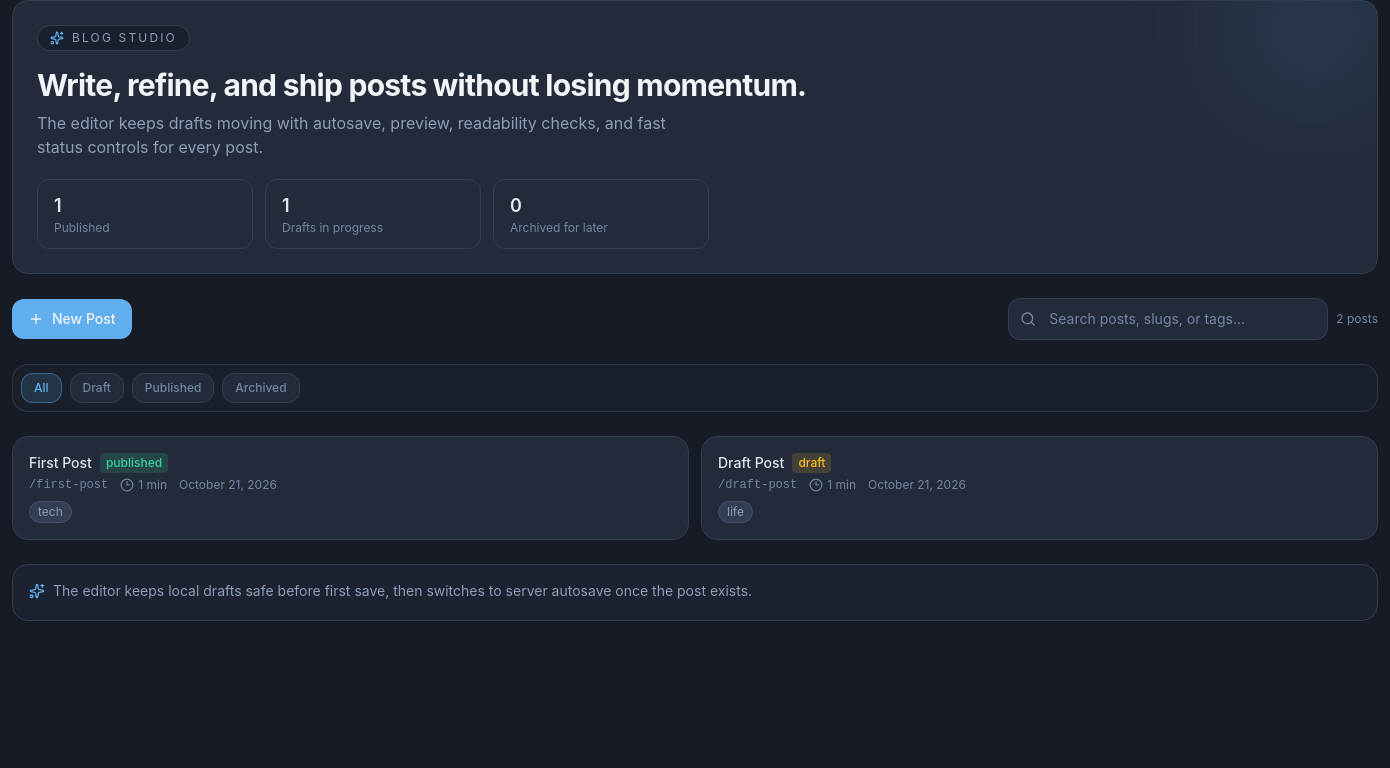
Test: BlogAdminView › filters posts by search text
Expected: the text "First Post" is shown, [29,453,92,473]
Type "First" into the field with placeholder "Search posts, slugs, or tags..." at (1168, 319), box [1008,298,1328,340]
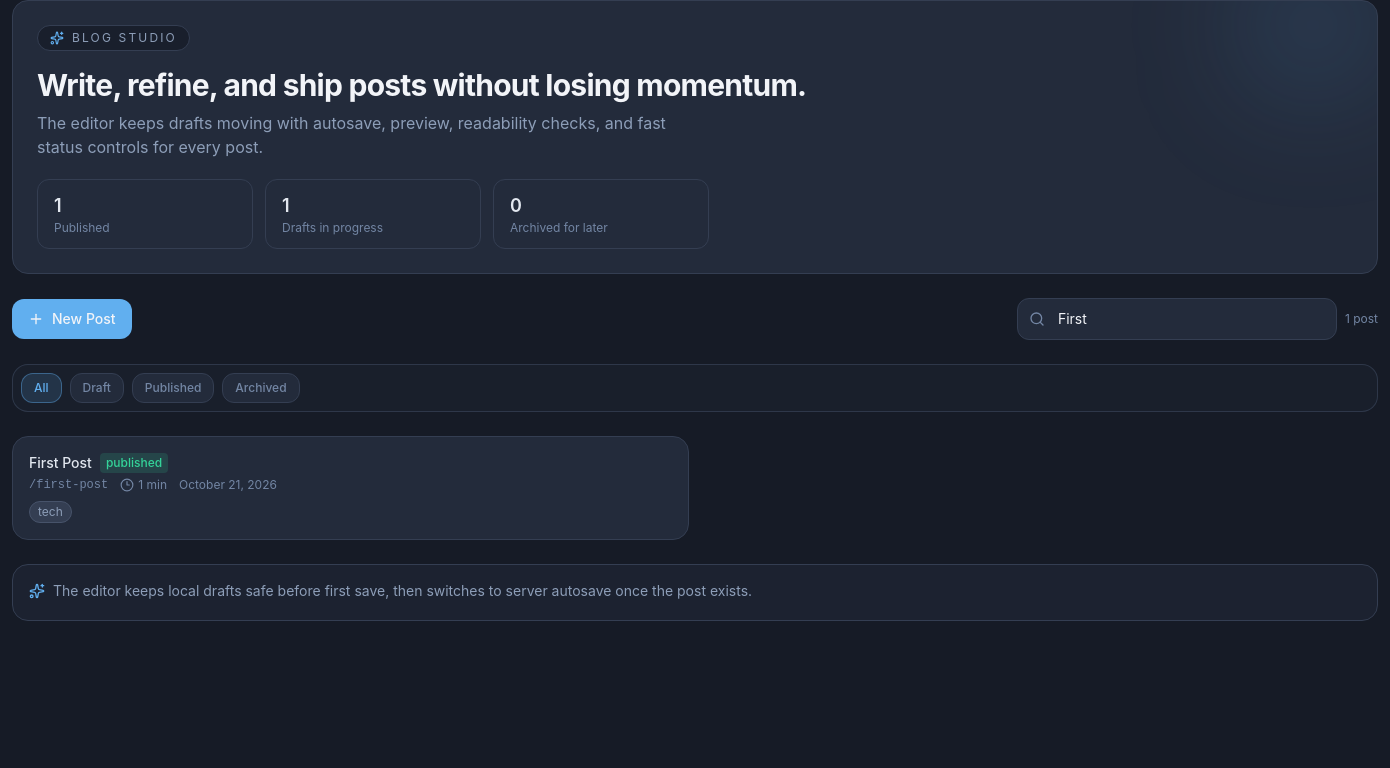
Expected: the text "First Post" is shown, [29,453,92,473]
Expected: the text "Draft Post" is gone
